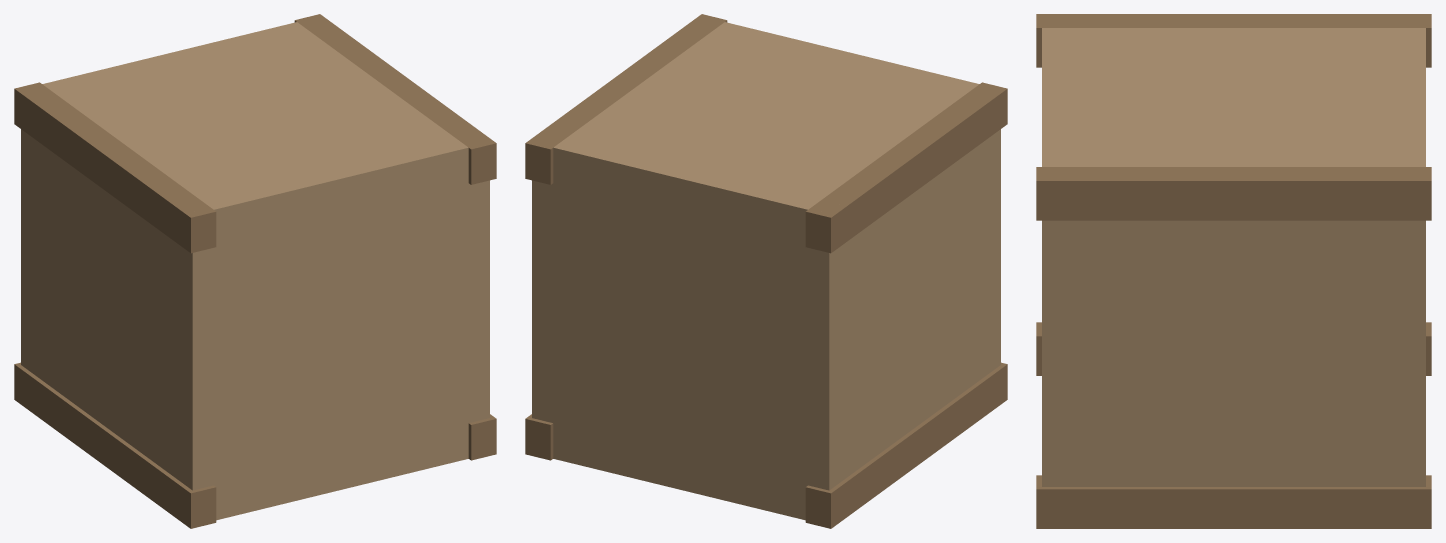
File: crate.glb
3 views of the same model, side by side, from view 1: azimuth 30°, elevation 25°; view 2: azimuth 150°, elevation 25°; view 3: azimuth 270°, elevation 25° (orthographic). The views are drawn at different scales.
Parts seen in each view (by area): view 1: Cube, Cube.002, Cube.001, Cube.004, Cube.003; view 2: Cube, Cube.002, Cube.001, Cube.004, Cube.003; view 3: Cube, Cube.004, Cube.003, Cube.002, Cube.001.
Boxes of the visible parts, bbox=[...] form: Cube: bbox=[21, 22, 489, 520]; Cube.002: bbox=[14, 82, 216, 253]; Cube.001: bbox=[14, 362, 216, 528]; Cube.004: bbox=[294, 14, 496, 184]; Cube.003: bbox=[468, 414, 496, 460]; Cube: bbox=[532, 22, 1000, 520]; Cube.002: bbox=[805, 82, 1007, 253]; Cube.001: bbox=[805, 362, 1007, 528]; Cube.004: bbox=[525, 14, 727, 184]; Cube.003: bbox=[525, 414, 553, 460]; Cube: bbox=[1042, 28, 1425, 486]; Cube.004: bbox=[1036, 167, 1431, 220]; Cube.003: bbox=[1036, 475, 1431, 528]; Cube.002: bbox=[1036, 14, 1431, 67]; Cube.001: bbox=[1036, 322, 1431, 375].
Size of the model in its own units: 0.72 by 0.7 by 0.72.
